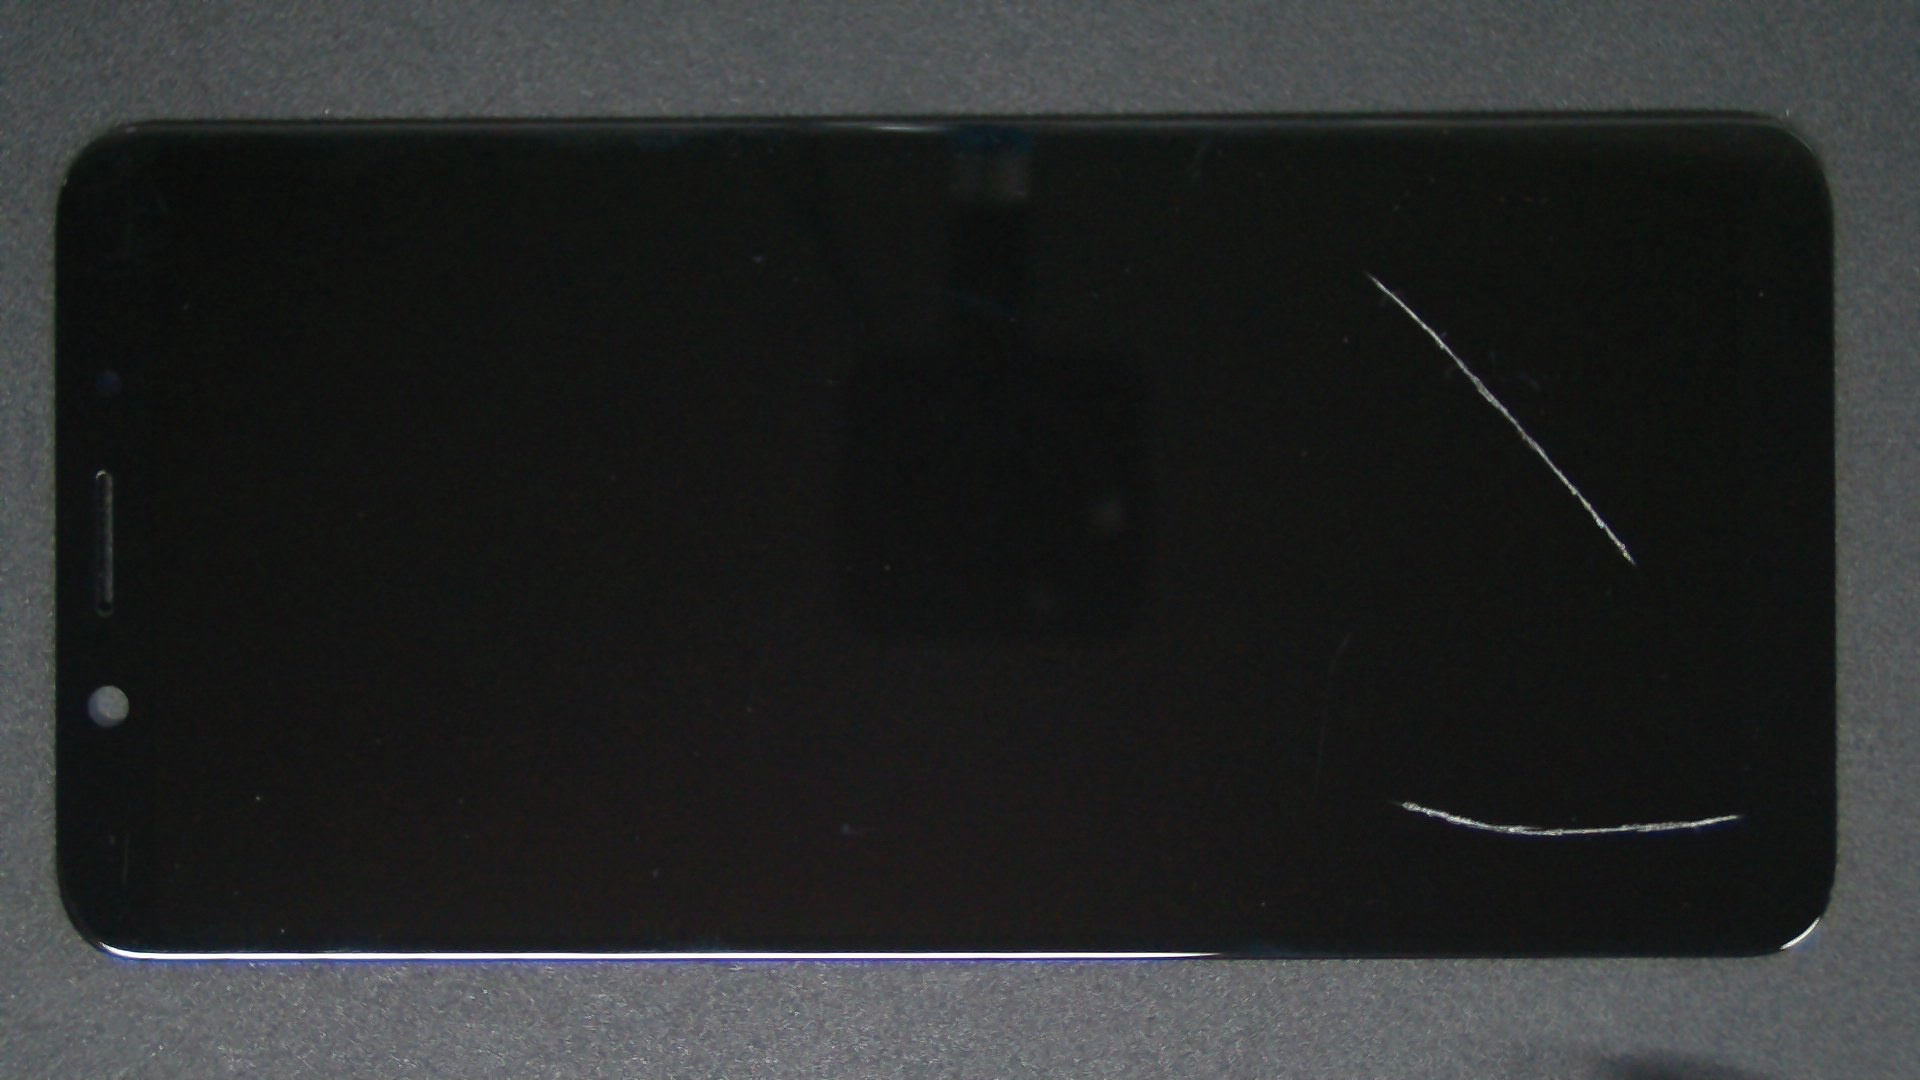oil: (702, 401, 1920, 1080), (684, 137, 1920, 413)
